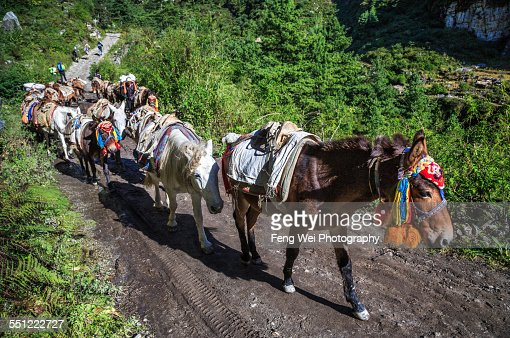equine: (225, 119, 459, 324), (145, 109, 225, 253), (63, 112, 119, 213), (40, 100, 86, 169)
human: (51, 57, 72, 85), (91, 39, 107, 60)
